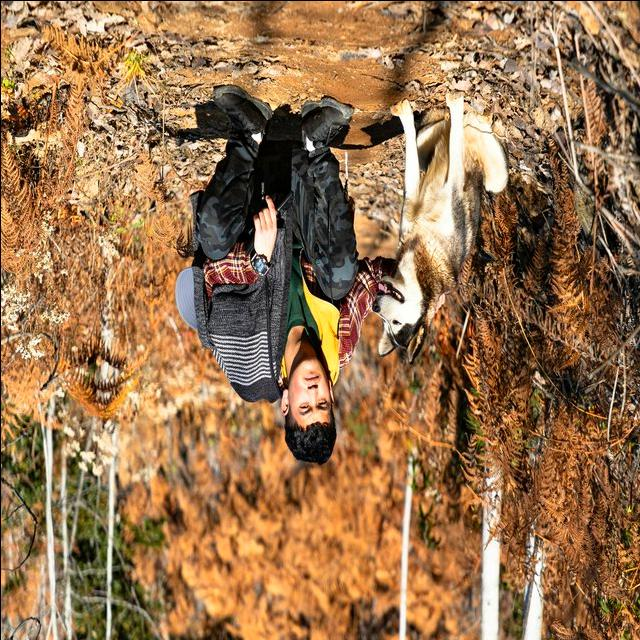husky: (368, 90, 509, 362)
